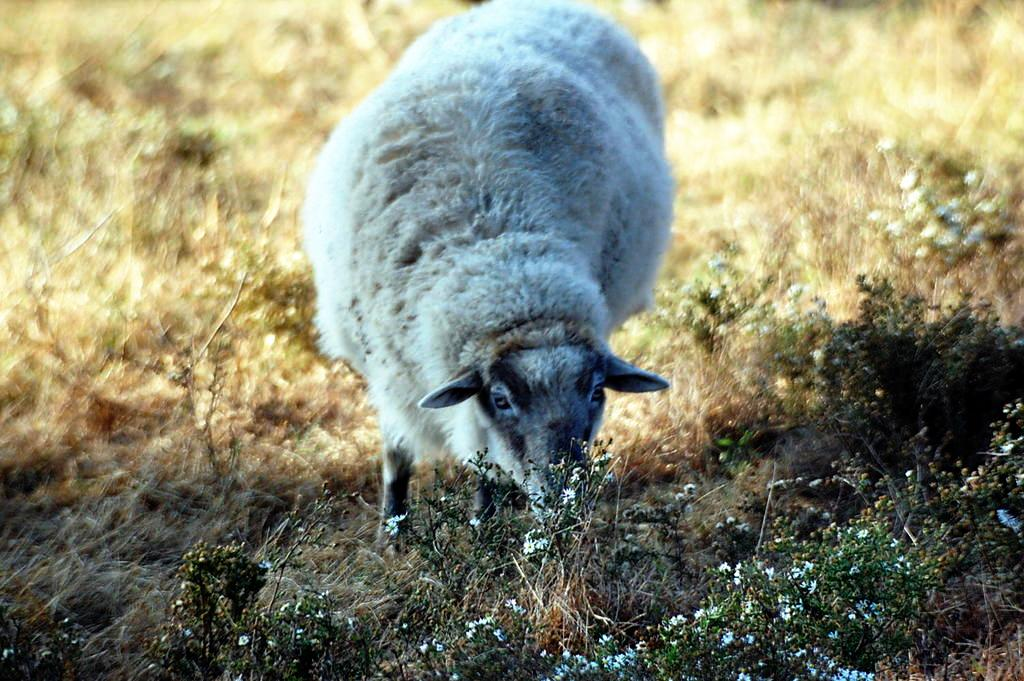Sheep: (312, 0, 674, 574)
